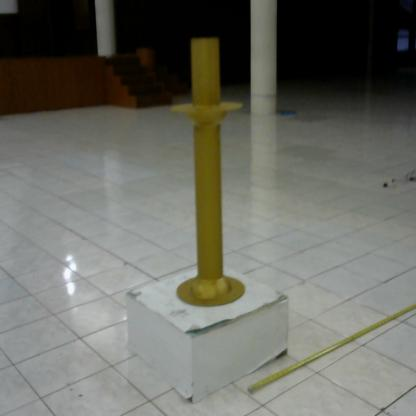pole: (163, 28, 255, 317)
